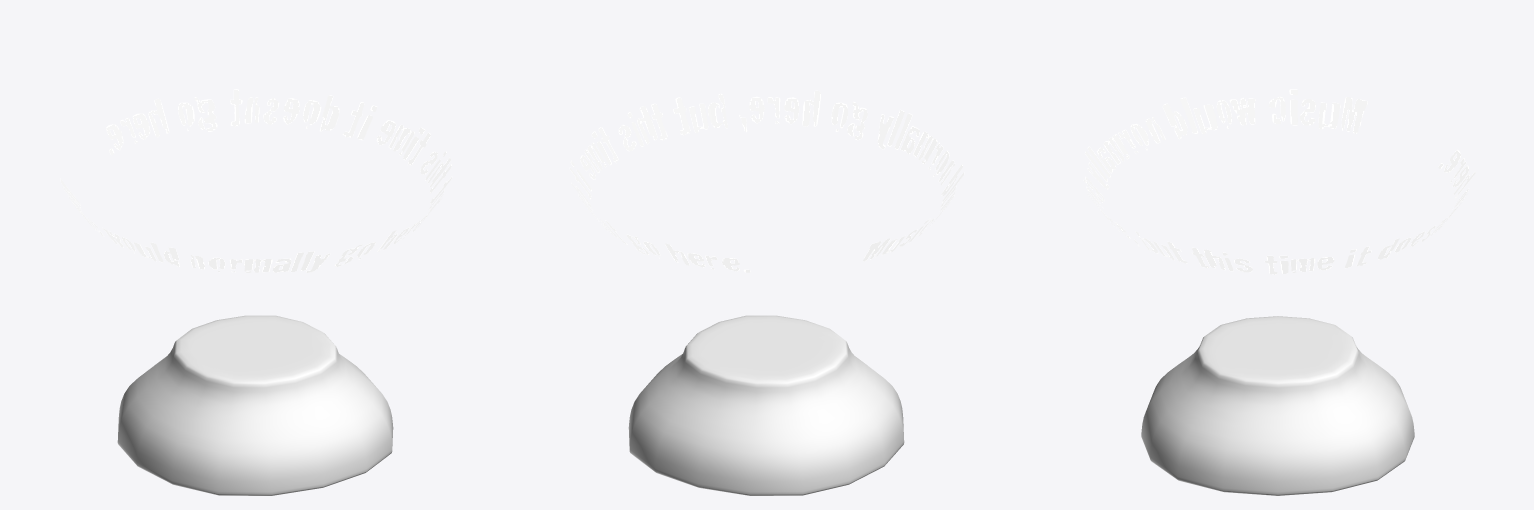
Rendered from MusicStandRejection.gltf.
3 views of the same model, side by side, from view 1: azimuth 30°, elevation 25°; view 2: azimuth 150°, elevation 25°; view 3: azimuth 270°, elevation 25° (orthographic).
Visible parts, largest first — view 1: Cube, Cylinder; view 2: Cube, Cylinder; view 3: Cube, Cylinder.
Boxes of the visible parts, bbox=[...] form: Cube: bbox=[117, 315, 393, 495]; Cylinder: bbox=[60, 89, 452, 272]; Cube: bbox=[628, 315, 904, 495]; Cylinder: bbox=[569, 90, 964, 272]; Cube: bbox=[1141, 316, 1414, 495]; Cylinder: bbox=[1083, 89, 1475, 274].
Bounding box in the file's own units: 1.61 × 1.19 × 1.61.
Materials: 2 (1 with a texture image).
